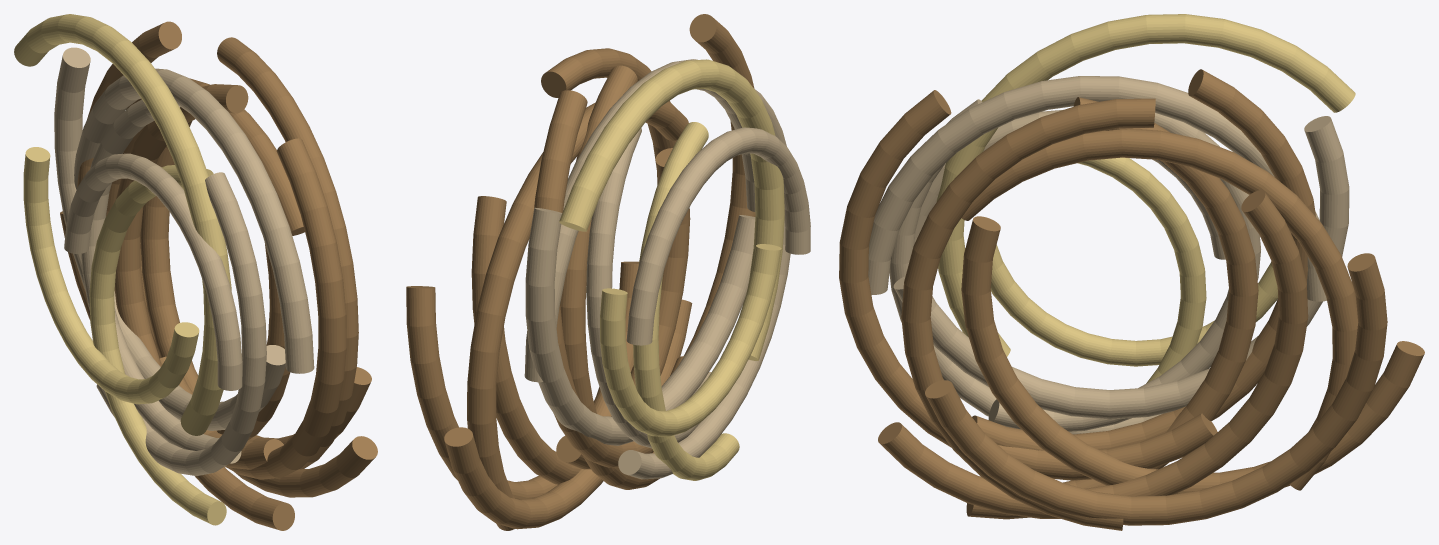
The model's file is 회전초.fbx.
3 views of the same model, side by side, from view 1: azimuth 30°, elevation 25°; view 2: azimuth 150°, elevation 25°; view 3: azimuth 270°, elevation 25° (orthographic). The views are drawn at different scales.
Visible parts, largest first — view 1: Cylinder.015, Cylinder.009, Cylinder.005, Cylinder.010, Cylinder.013, Cylinder.014, Cylinder.011, Cylinder.001, Cylinder.006, Cylinder, Cylinder.008, Cylinder.012 (+4 smaller); view 2: Cylinder.008, Cylinder.015, Cylinder.004, Cylinder.013, Cylinder.014, Cylinder.003, Cylinder.001, Cylinder.002, Cylinder.011, Cylinder.006, Cylinder.007, Cylinder.012 (+4 smaller); view 3: Cylinder.002, Cylinder.001, Cylinder.005, Cylinder.004, Cylinder, Cylinder.003, Cylinder.009, Cylinder.015, Cylinder.008, Cylinder.007, Cylinder.006, Cylinder.011 (+4 smaller).
Part boxes in pixels (x1=…): Cylinder.015: x1=14, y1=14, x2=231, y2=435; Cylinder.009: x1=74, y1=68, x2=314, y2=373; Cylinder.005: x1=160, y1=138, x2=346, y2=479; Cylinder.010: x1=96, y1=172, x2=266, y2=475; Cylinder.013: x1=23, y1=147, x2=199, y2=404; Cylinder.014: x1=64, y1=153, x2=242, y2=390; Cylinder.011: x1=89, y1=165, x2=226, y2=525; Cylinder.001: x1=140, y1=121, x2=377, y2=497; Cylinder.006: x1=114, y1=84, x2=294, y2=530; Cylinder: x1=217, y1=37, x2=358, y2=469; Cylinder.008: x1=54, y1=47, x2=285, y2=430; Cylinder.012: x1=81, y1=99, x2=241, y2=463; Cylinder.008: x1=525, y1=207, x2=755, y2=445; Cylinder.015: x1=559, y1=59, x2=784, y2=360; Cylinder.004: x1=467, y1=101, x2=688, y2=530; Cylinder.013: x1=600, y1=244, x2=781, y2=436; Cylinder.014: x1=626, y1=127, x2=810, y2=345; Cylinder.003: x1=444, y1=148, x2=690, y2=529; Cylinder.001: x1=471, y1=196, x2=692, y2=484; Cylinder.002: x1=406, y1=261, x2=638, y2=499; Cylinder.011: x1=633, y1=122, x2=739, y2=480; Cylinder.006: x1=560, y1=65, x2=659, y2=489; Cylinder.007: x1=534, y1=90, x2=684, y2=467; Cylinder.012: x1=586, y1=128, x2=711, y2=448; Cylinder.002: x1=925, y1=253, x2=1387, y2=525; Cylinder.001: x1=878, y1=190, x2=1308, y2=518; Cylinder.005: x1=839, y1=90, x2=1217, y2=480; Cylinder.004: x1=961, y1=129, x2=1358, y2=490; Cylinder: x1=901, y1=98, x2=1155, y2=530; Cylinder.003: x1=961, y1=216, x2=1424, y2=494; Cylinder.009: x1=868, y1=76, x2=1326, y2=301; Cylinder.015: x1=936, y1=14, x2=1355, y2=356; Cylinder.008: x1=893, y1=116, x2=1349, y2=419; Cylinder.007: x1=972, y1=69, x2=1315, y2=450; Cylinder.006: x1=966, y1=97, x2=1258, y2=519; Cylinder.011: x1=1077, y1=157, x2=1206, y2=383.
Bounding box in the file's own units: 306 × 743 × 846.
